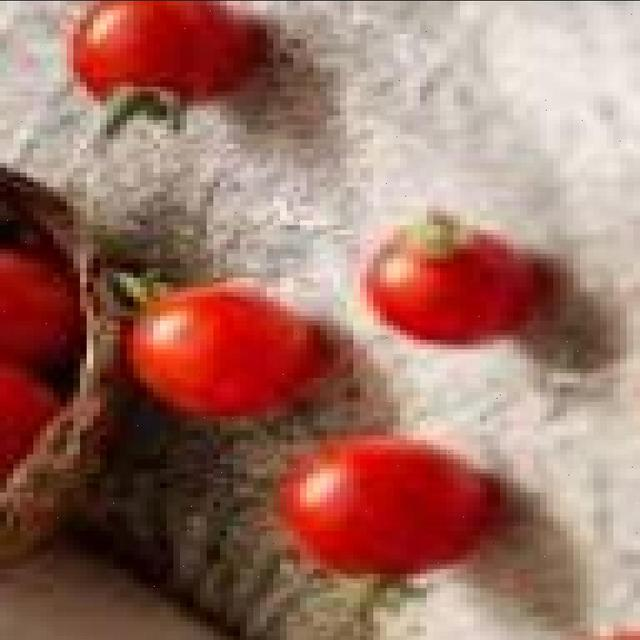Healthy Fruit: (93, 38, 292, 342)
